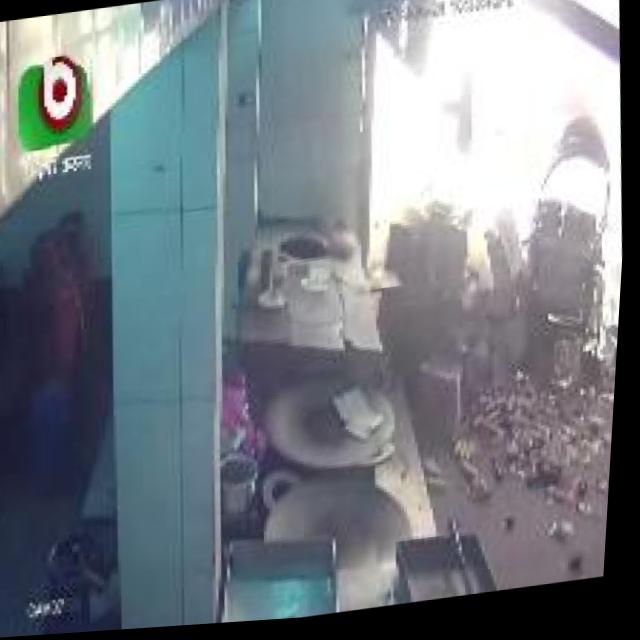fire: (417, 0, 640, 344), (351, 2, 590, 308)
